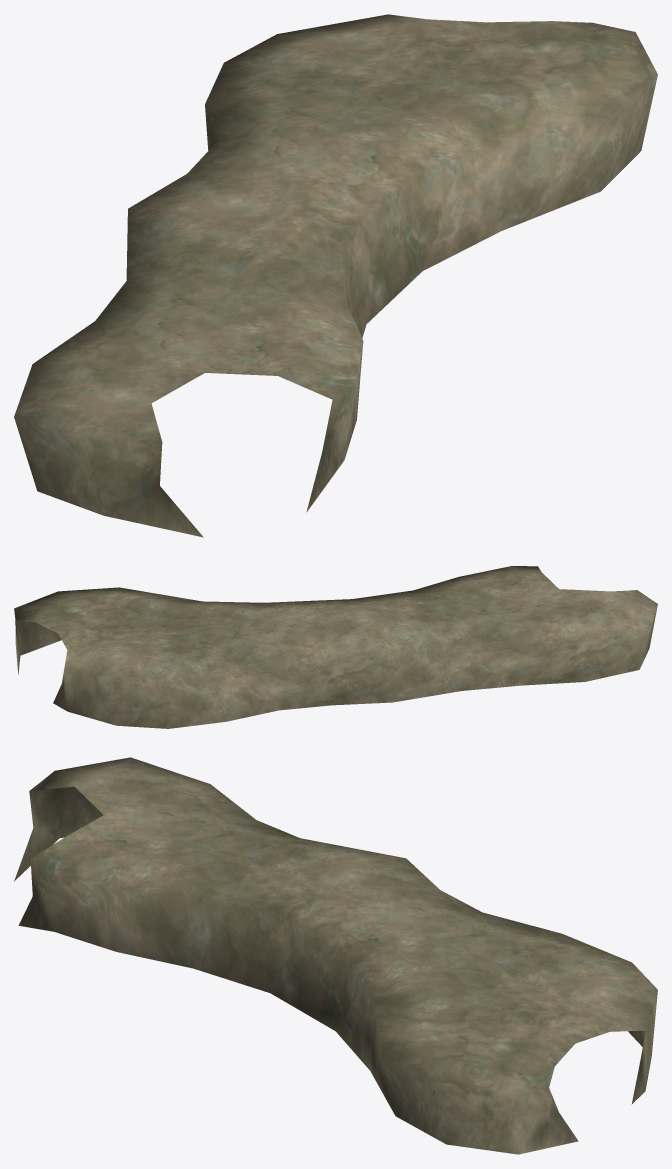
The model's file is EKH_CAVERNS_PS_CA_ROCK_001.fbx.
3 views of the same model, one above another, from view 1: azimuth 30°, elevation 25°; view 2: azimuth 150°, elevation 25°; view 3: azimuth 270°, elevation 25° (orthographic). The views are drawn at different scales.
Parts seen in each view (by area): view 1: EKH_CAVERNS_PS_CA_ROCK_001; view 2: EKH_CAVERNS_PS_CA_ROCK_001; view 3: EKH_CAVERNS_PS_CA_ROCK_001.
Part boxes in pixels (x1,y1,x2,y2): EKH_CAVERNS_PS_CA_ROCK_001: (14,14,657,537); EKH_CAVERNS_PS_CA_ROCK_001: (14,566,657,728); EKH_CAVERNS_PS_CA_ROCK_001: (14,757,657,1154).
Bounding box in the file's own units: 101511 × 14372 × 81450.
1 material, 1 textured.
